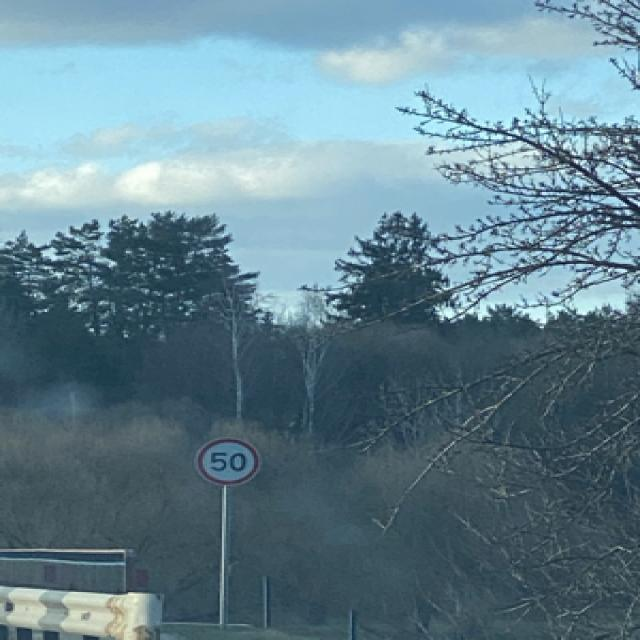speedlimit: (194, 435, 256, 483)
